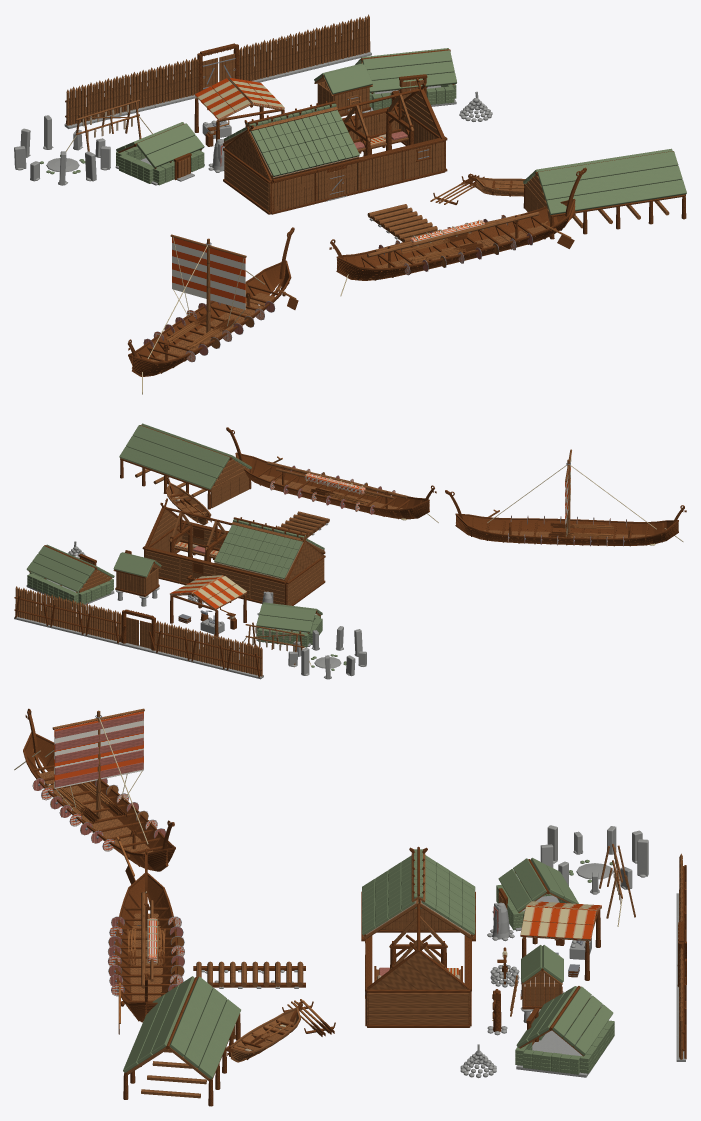
Rendered from viking-age-longhouse-and-longship-steadi-367c746b-starter-scene__30192.glb.
The picture shows the model from 3 angles, top to bottom: view 1: azimuth 30°, elevation 25°; view 2: azimuth 150°, elevation 25°; view 3: azimuth 270°, elevation 25°; orthographic projection. The views are drawn at different scales.
Visible parts, largest first — view 1: 046-ship-shed/2, 043-viking-longship-beached/0, 044-viking-longship/0, 044-viking-longship/4, 034-animal-byre/1, 031-turf-pit-house/0, 040-standing-stone-circle/0, 010-turf-roof-slope/3, 013-turf-roof-slope/3, 032-smithy-with-forge-and-bellows/2, 008-longhouse-gable-end/0, 044-viking-longship/1 (+27 smaller); view 2: 044-viking-longship/0, 046-ship-shed/2, 043-viking-longship-beached/0, 034-animal-byre/1, 031-turf-pit-house/0, 040-standing-stone-circle/0, 011-turf-roof-slope/3, 014-turf-roof-slope/3, 032-smithy-with-forge-and-bellows/2, 008-longhouse-gable-end/0, 046-ship-shed/1, 043-viking-longship-beached/1 (+25 smaller); view 3: 046-ship-shed/2, 034-animal-byre/1, 009-longhouse-gable-end/0, 044-viking-longship/0, 043-viking-longship-beached/0, 044-viking-longship/5, 044-viking-longship/4, 031-turf-pit-house/0, 032-smithy-with-forge-and-bellows/2, 040-standing-stone-circle/0, 044-viking-longship/1, 043-viking-longship-beached/1 (+22 smaller).
Boxes of the visible parts, bbox=[...] form: 046-ship-shed/2: bbox=[523, 148, 686, 214]; 043-viking-longship-beached/0: bbox=[329, 167, 586, 280]; 044-viking-longship/0: bbox=[127, 227, 294, 376]; 044-viking-longship/4: bbox=[144, 237, 274, 361]; 034-animal-byre/1: bbox=[355, 48, 456, 110]; 031-turf-pit-house/0: bbox=[116, 122, 204, 185]; 040-standing-stone-circle/0: bbox=[14, 115, 110, 185]; 010-turf-roof-slope/3: bbox=[250, 120, 316, 176]; 013-turf-roof-slope/3: bbox=[294, 110, 359, 166]; 032-smithy-with-forge-and-bellows/2: bbox=[195, 77, 284, 120]; 008-longhouse-gable-end/0: bbox=[224, 131, 270, 211]; 044-viking-longship/1: bbox=[151, 234, 278, 372]; 044-viking-longship/0: bbox=[445, 490, 686, 546]; 046-ship-shed/2: bbox=[119, 423, 251, 489]; 043-viking-longship-beached/0: bbox=[226, 427, 436, 519]; 034-animal-byre/1: bbox=[26, 544, 114, 605]; 031-turf-pit-house/0: bbox=[256, 602, 322, 647]; 040-standing-stone-circle/0: bbox=[288, 626, 366, 679]; 011-turf-roof-slope/3: bbox=[249, 533, 302, 578]; 014-turf-roof-slope/3: bbox=[214, 524, 267, 570]; 032-smithy-with-forge-and-bellows/2: bbox=[170, 575, 246, 610]; 008-longhouse-gable-end/0: bbox=[286, 541, 324, 605]; 046-ship-shed/1: bbox=[135, 459, 249, 508]; 043-viking-longship-beached/1: bbox=[253, 461, 407, 517]; 046-ship-shed/2: bbox=[123, 976, 240, 1079]; 034-animal-byre/1: bbox=[515, 986, 614, 1074]; 009-longhouse-gable-end/0: bbox=[367, 952, 470, 1024]; 044-viking-longship/0: bbox=[23, 708, 175, 871]; 043-viking-longship-beached/0: bbox=[115, 848, 178, 1022]; 044-viking-longship/5: bbox=[34, 713, 165, 850]; 044-viking-longship/4: bbox=[33, 711, 164, 851]; 031-turf-pit-house/0: bbox=[496, 857, 578, 930]; 032-smithy-with-forge-and-bellows/2: bbox=[520, 901, 601, 940]; 040-standing-stone-circle/0: bbox=[540, 825, 648, 894]; 044-viking-longship/1: bbox=[38, 708, 153, 865]; 043-viking-longship-beached/1: bbox=[130, 891, 162, 1000].
Size of the model in its own units: 42.5 by 7.06 by 35.86.
12 materials, 8 textured.
